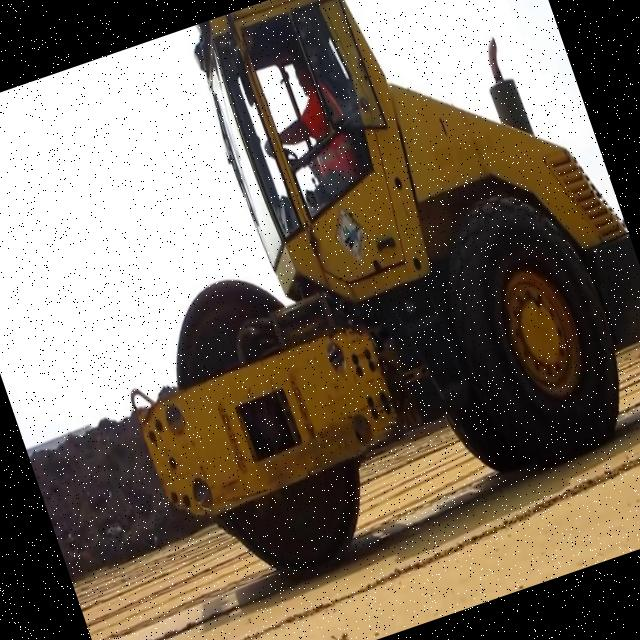Roller: (14, 0, 640, 559)
